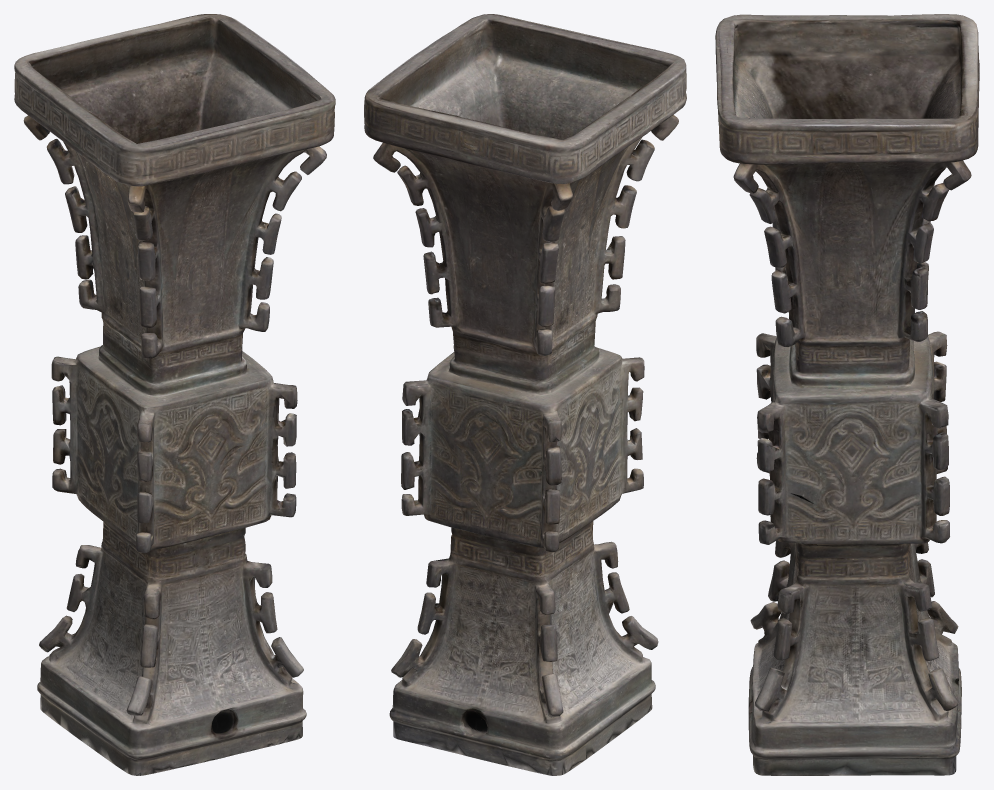
3 renders of one model, left to right at view 1: azimuth 30°, elevation 25°; view 2: azimuth 150°, elevation 25°; view 3: azimuth 270°, elevation 25°, orthographic. The views are drawn at different scales.
Parts seen in each view (by area): view 1: defaultobject; view 2: defaultobject; view 3: defaultobject.
Part boxes in pixels (x1,y1,x2,y2): defaultobject: (14,14,335,775); defaultobject: (364,14,686,775); defaultobject: (715,14,979,775).
Bounding box in the file's own units: 20.97 × 58.71 × 21.1.
Materials: 1 (1 with a texture image).
